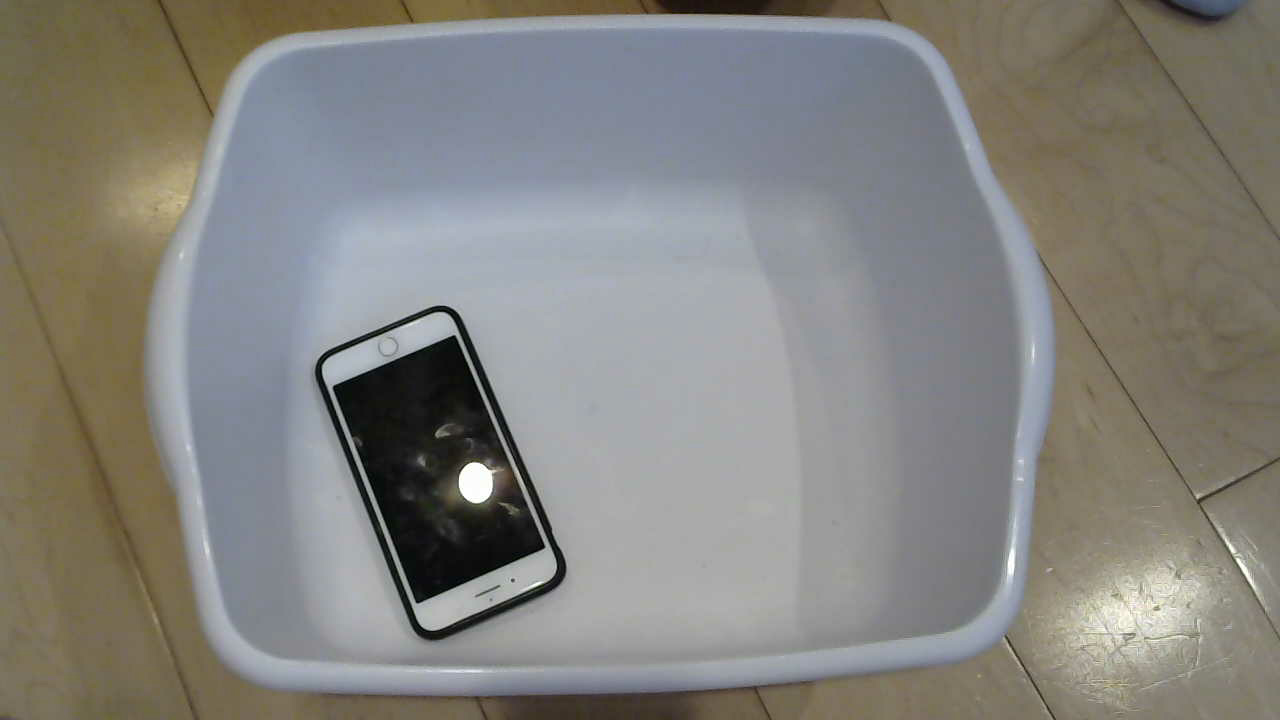phone: (304, 310, 583, 644)
